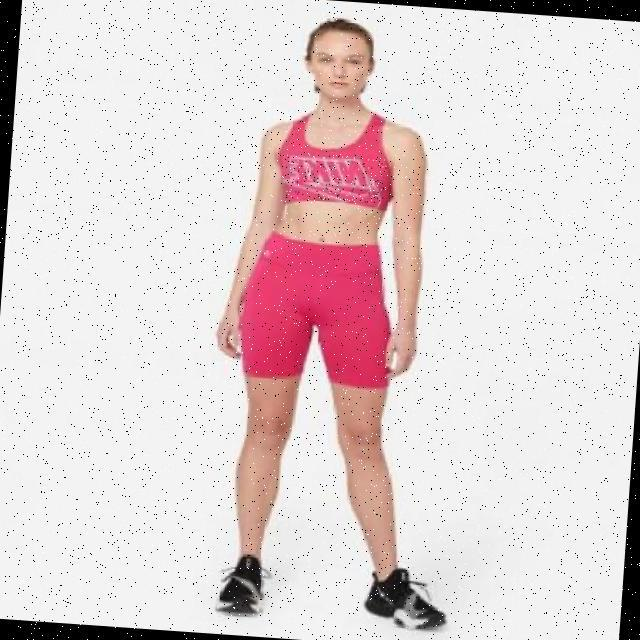Nike: (283, 152, 386, 205), (265, 248, 270, 254)
